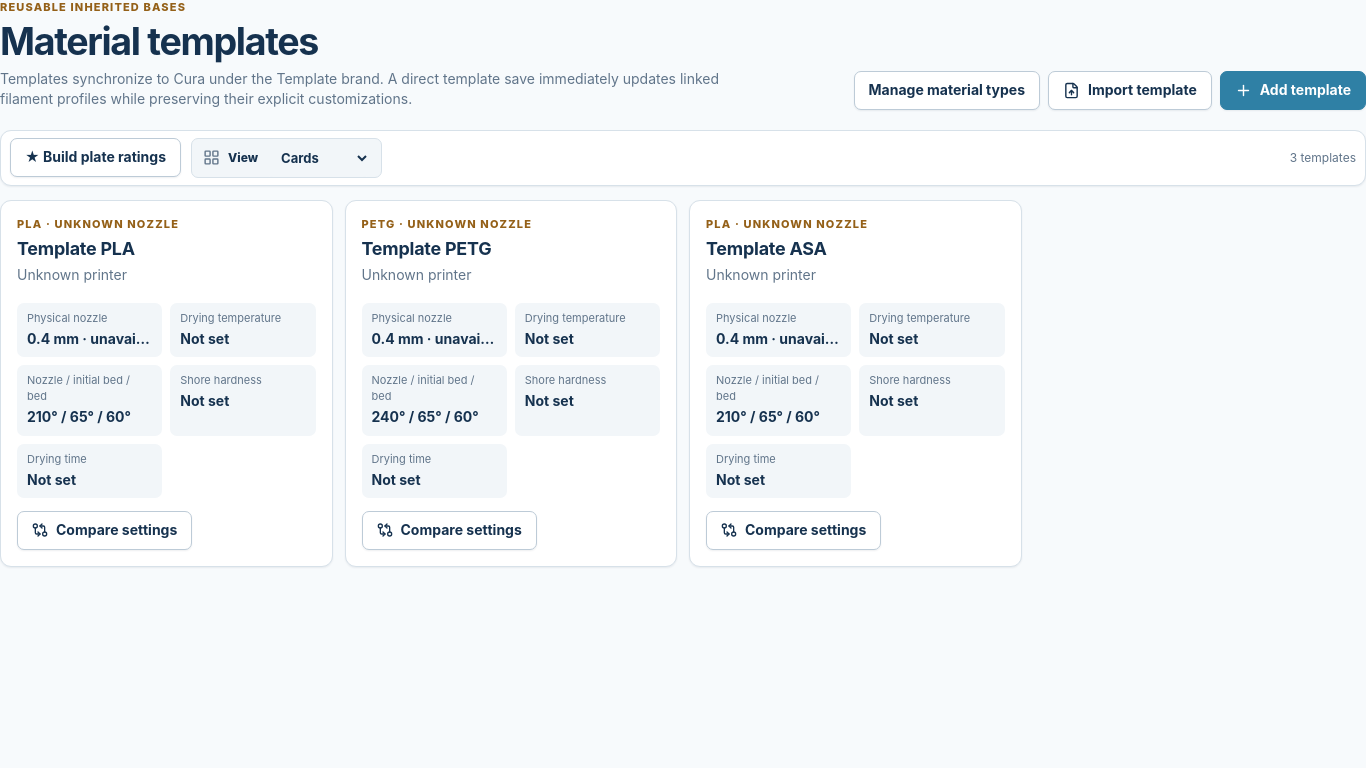
Test: TemplatesPage › selects a template before opening a comparison and preserves the exact pair
Click the 1st button "Compare settings" at (105, 530), box [17,511,192,550]
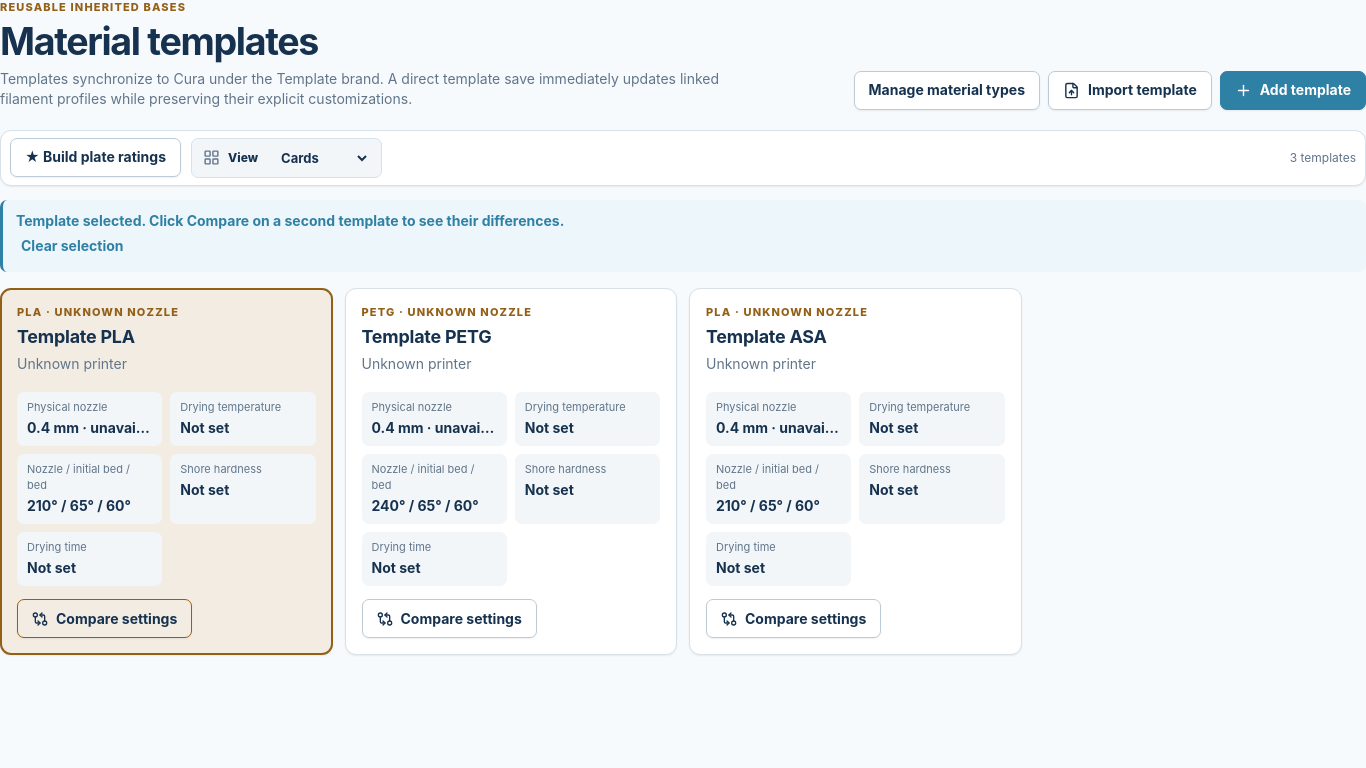
Expected: the 1st button "Compare settings" is pressed, [17,600,192,638]
Click the 2nd button "Compare settings" at (449, 619), box [362,600,537,638]
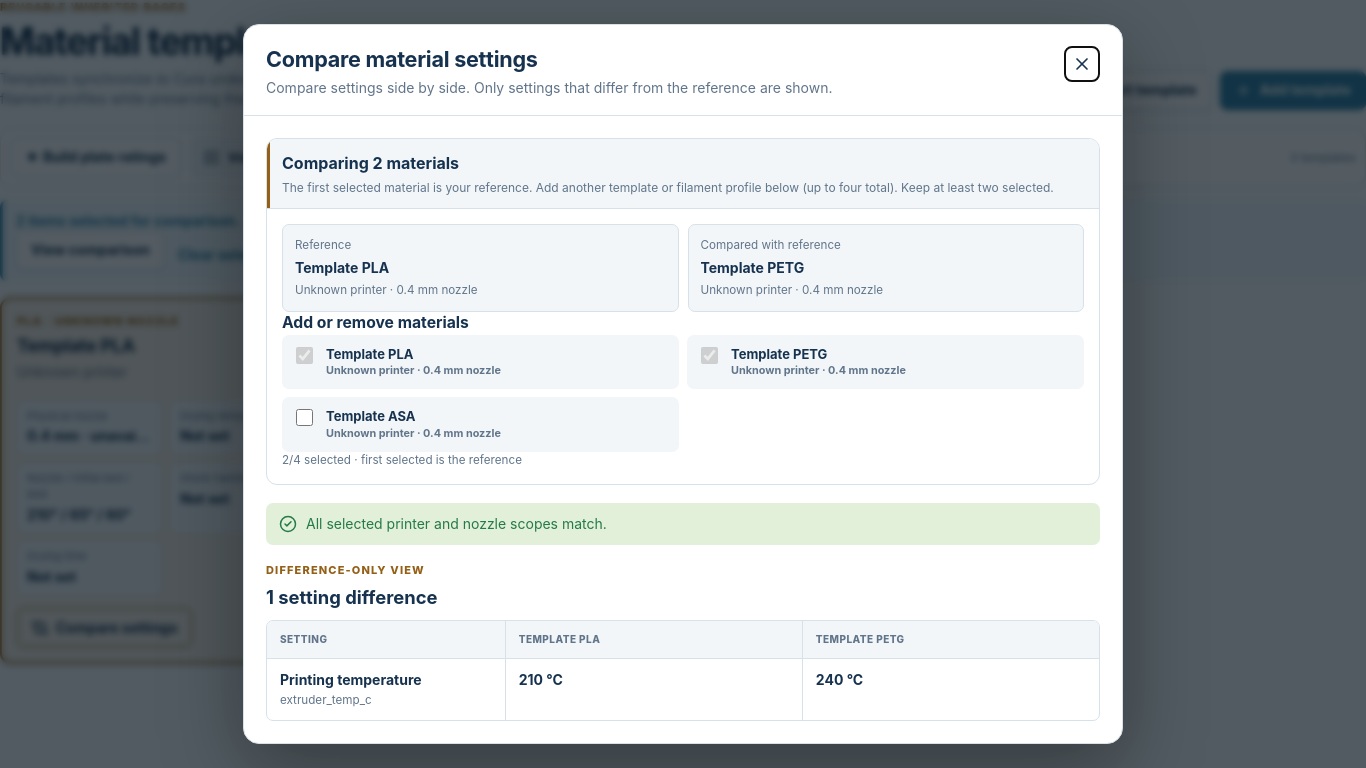
Expected: the dialog "Compare material settings" is shown
Expected: the text "Reference" is shown, [295,238,351,252]
Click the checkbox labelled "Template ASA Unknown printer · 0.4 mm nozzle" at (304, 418), box [296,409,313,426]
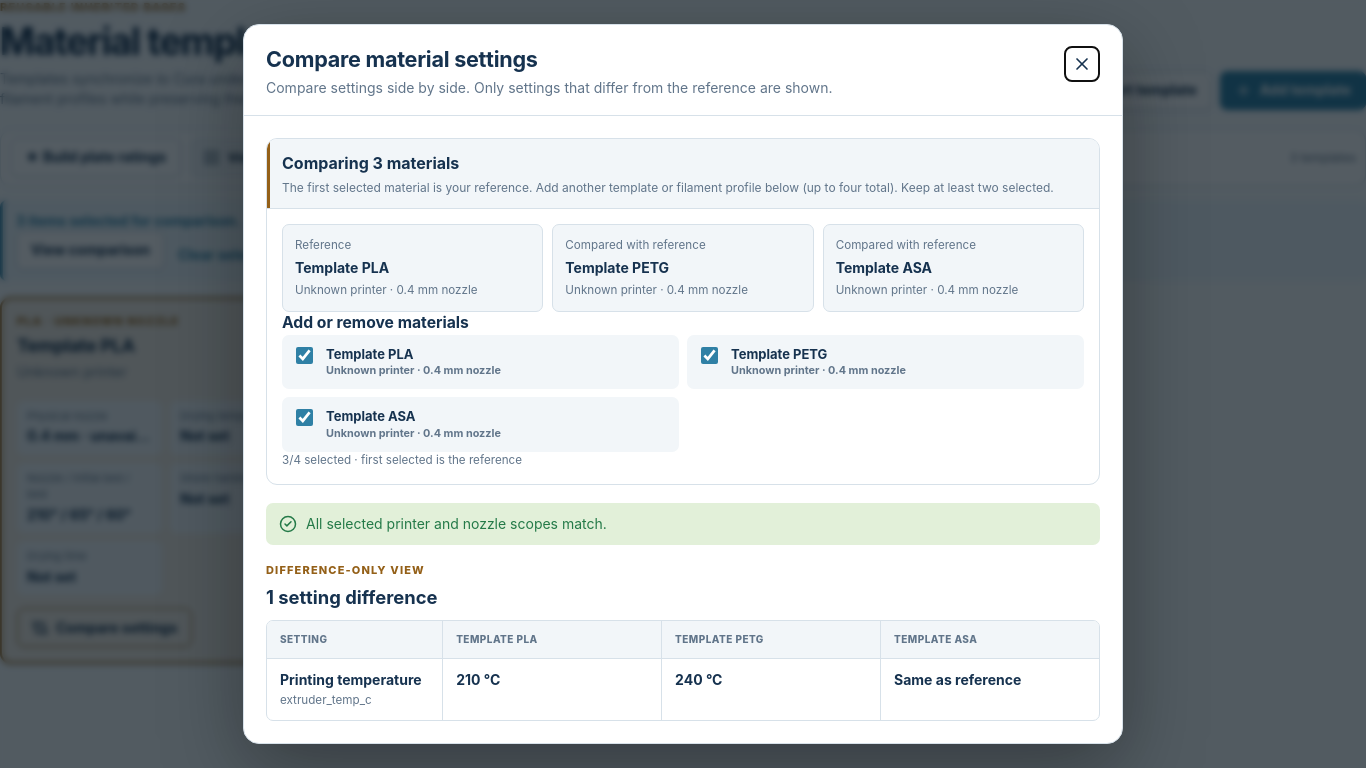
Expected: the heading "Comparing 3 materials" is shown, [282,153,459,173]
